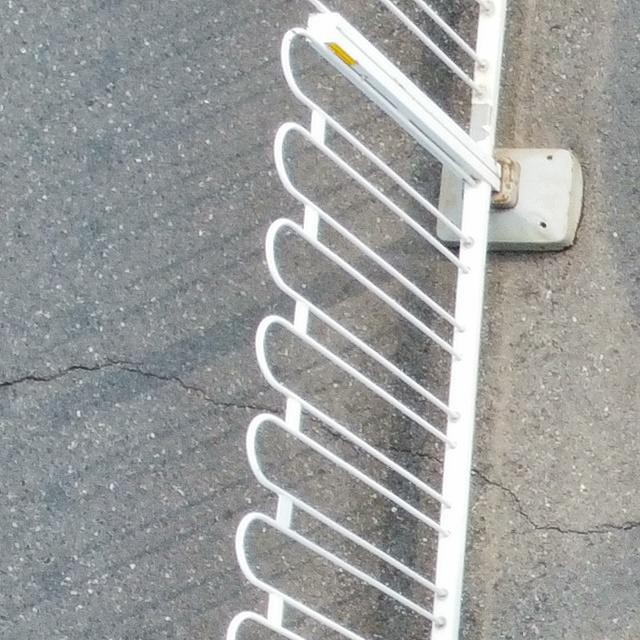TransverseCrack: (1, 356, 640, 534)
